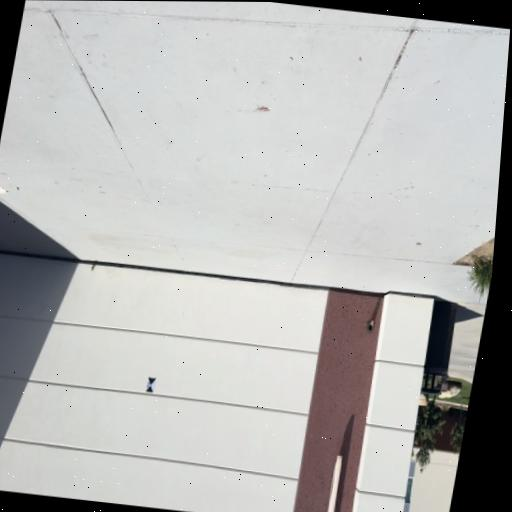target7: (145, 377, 156, 393)
